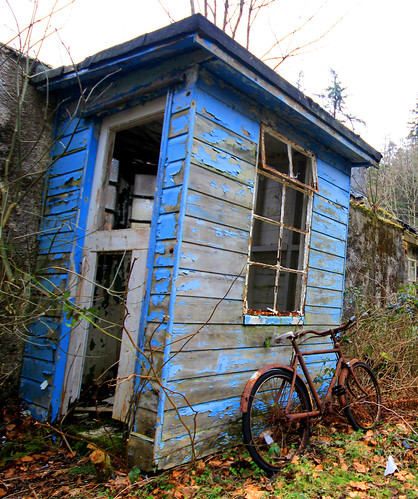bicicle: (231, 317, 384, 461)
building: (4, 36, 382, 454)
